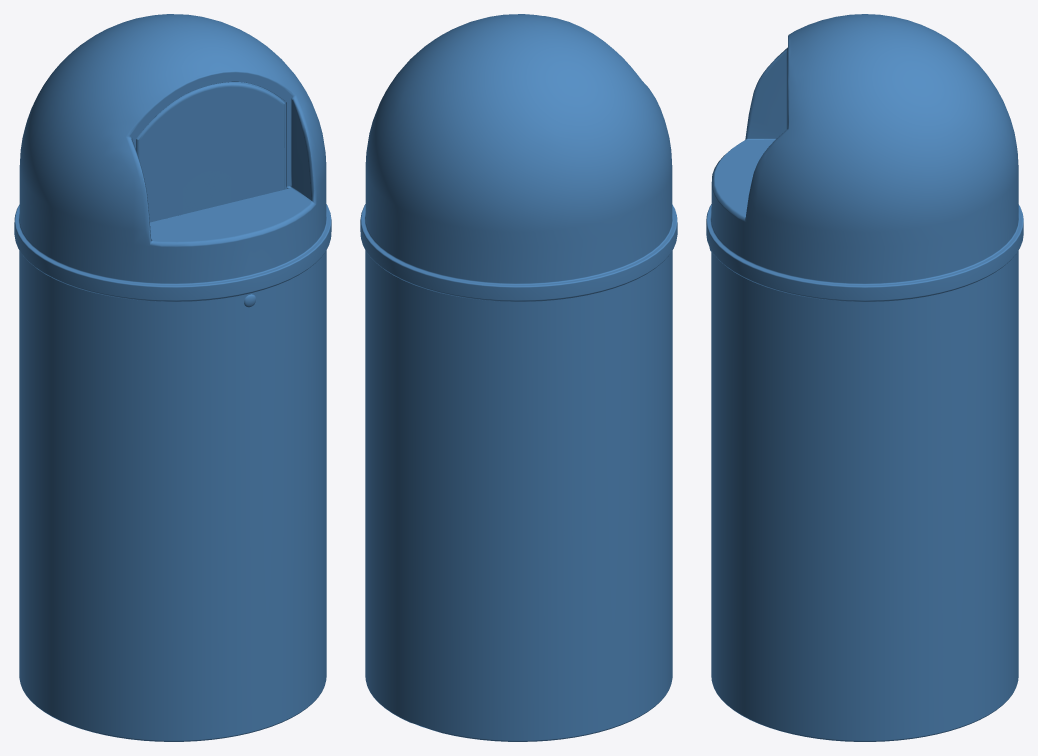
Rendered from trashCan_domed_blue_b01.glb.
The picture shows the model from 3 angles, left to right: view 1: azimuth 30°, elevation 25°; view 2: azimuth 150°, elevation 25°; view 3: azimuth 270°, elevation 25°; orthographic projection.
Size of the model in its own units: 0.4715 by 1.06 by 0.4716.
